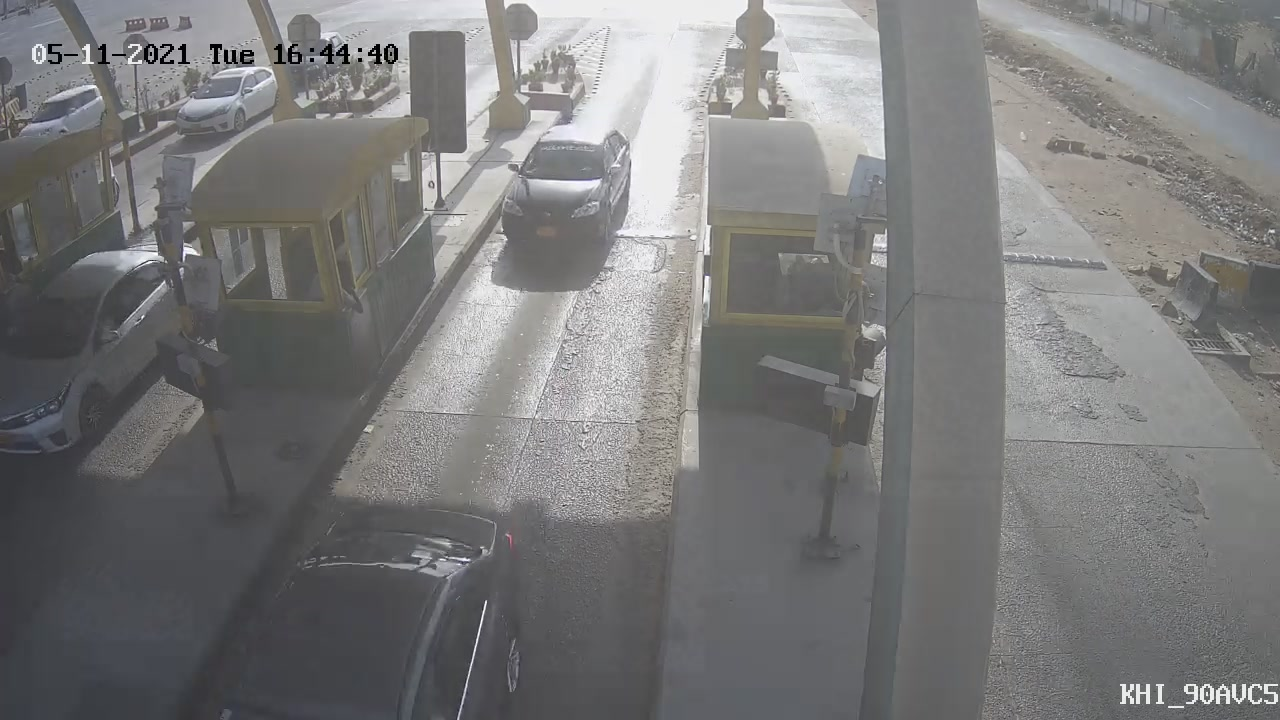F1: (489, 111, 647, 279)
